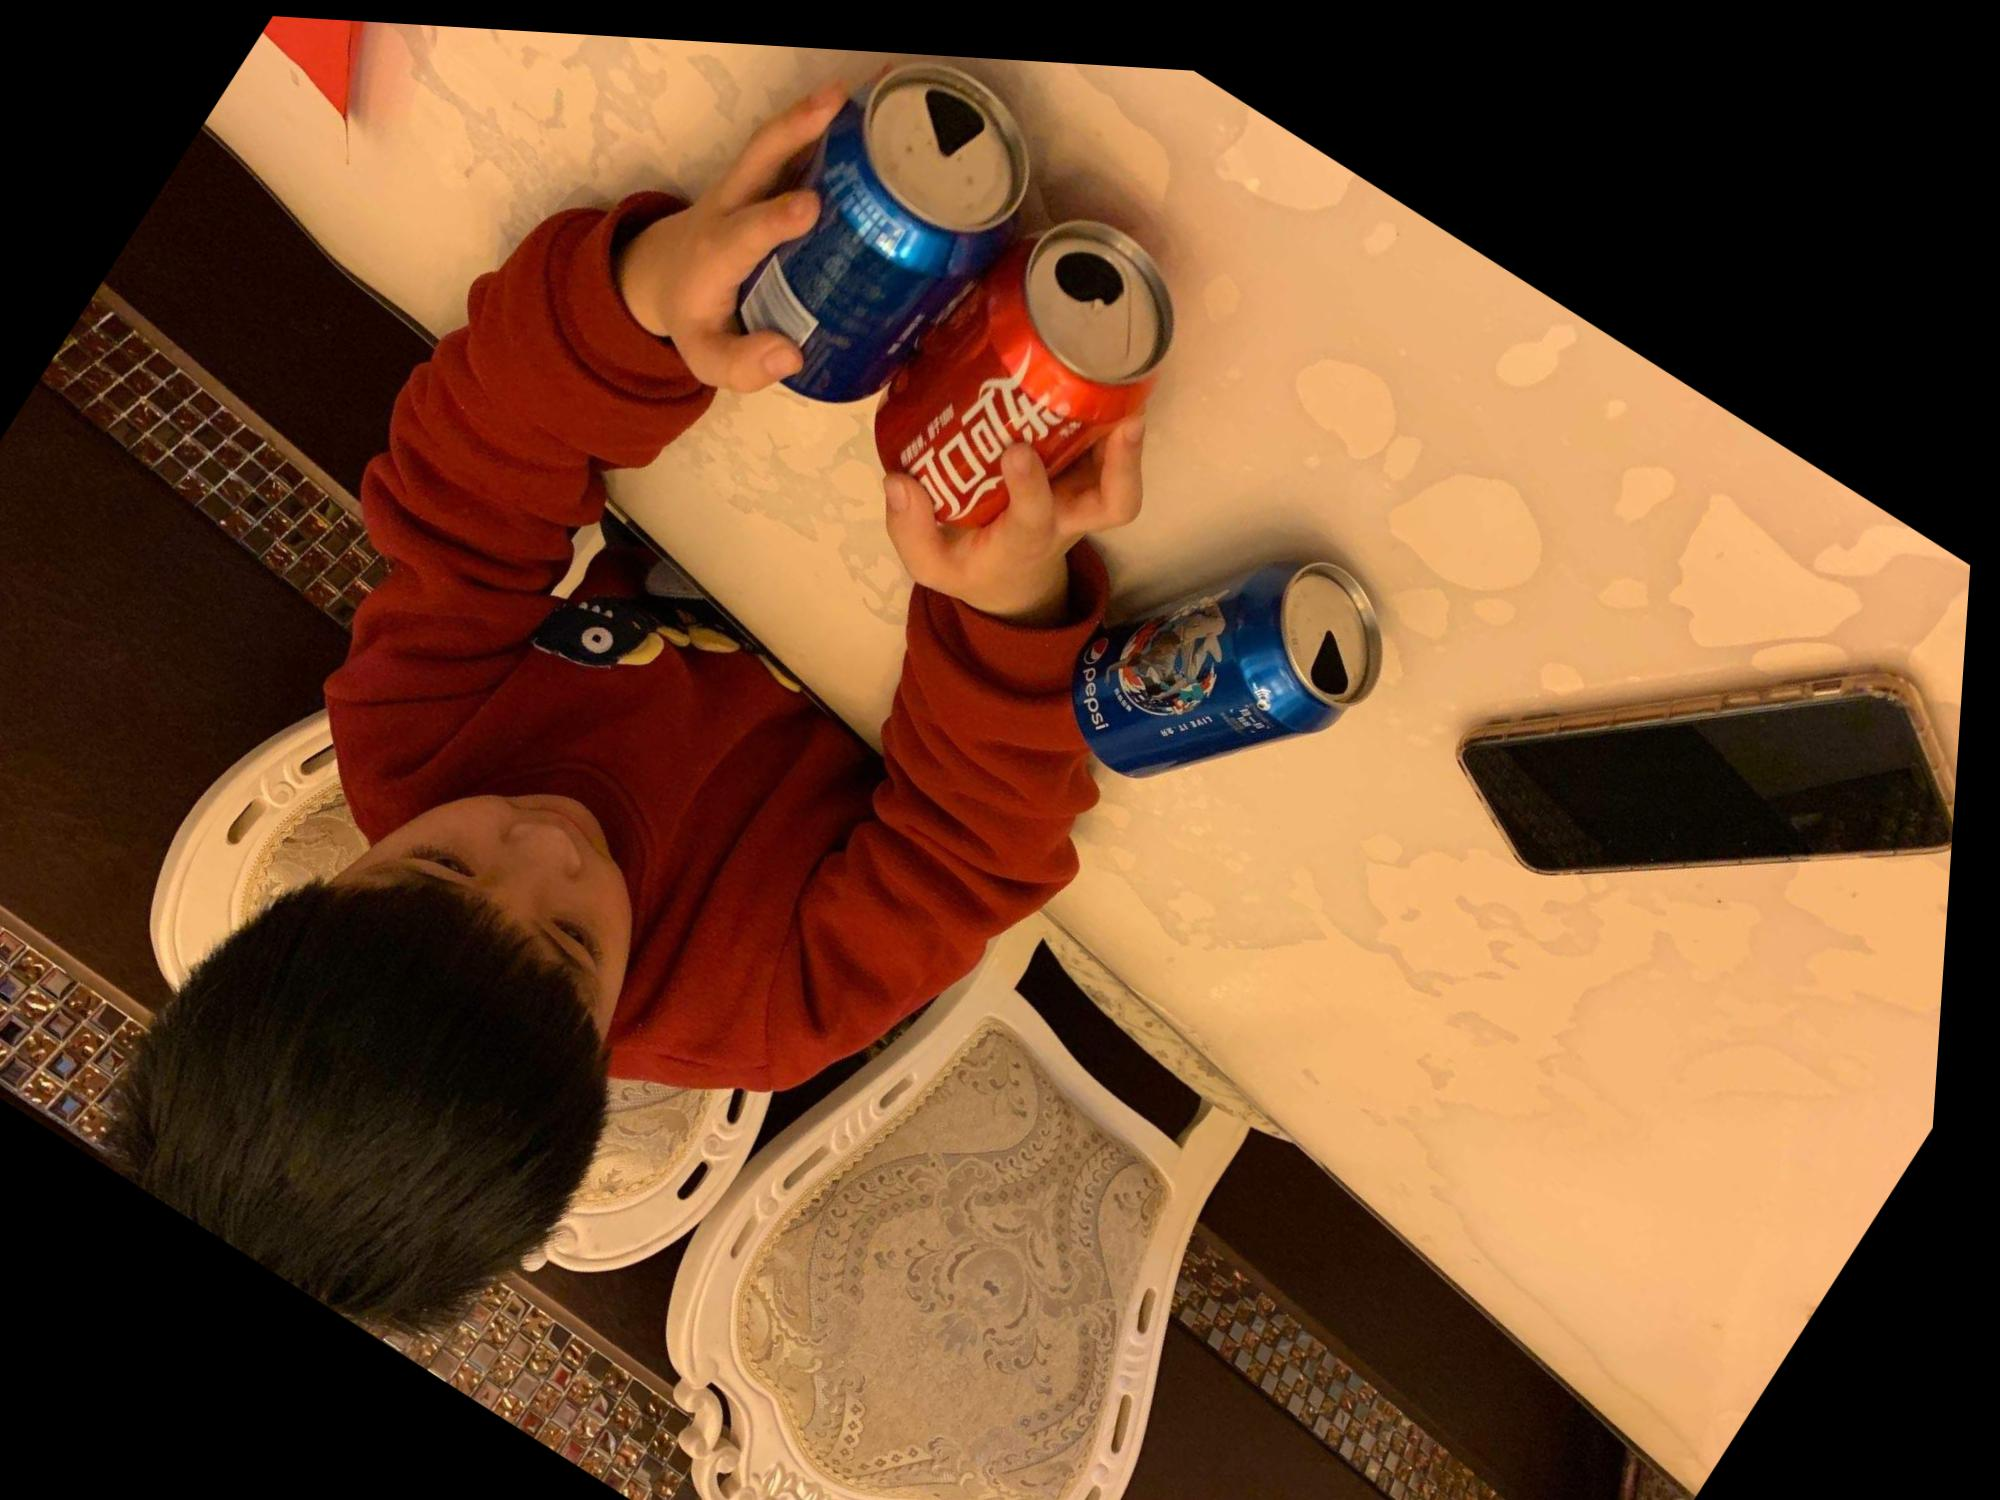metal: (876, 221, 1172, 621), (739, 65, 1027, 402), (1074, 562, 1380, 774)
plastic: (578, 917, 1244, 1498)
